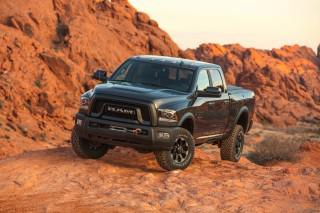ram: (105, 104, 136, 118)
